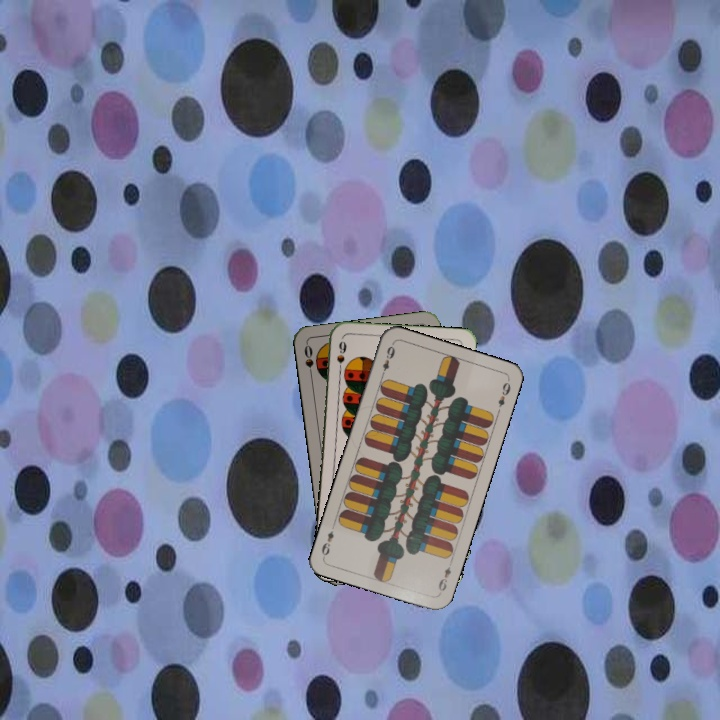E9: (377, 340, 397, 380), (434, 562, 453, 594)
S9: (333, 337, 349, 376)
SO: (300, 341, 316, 382)
